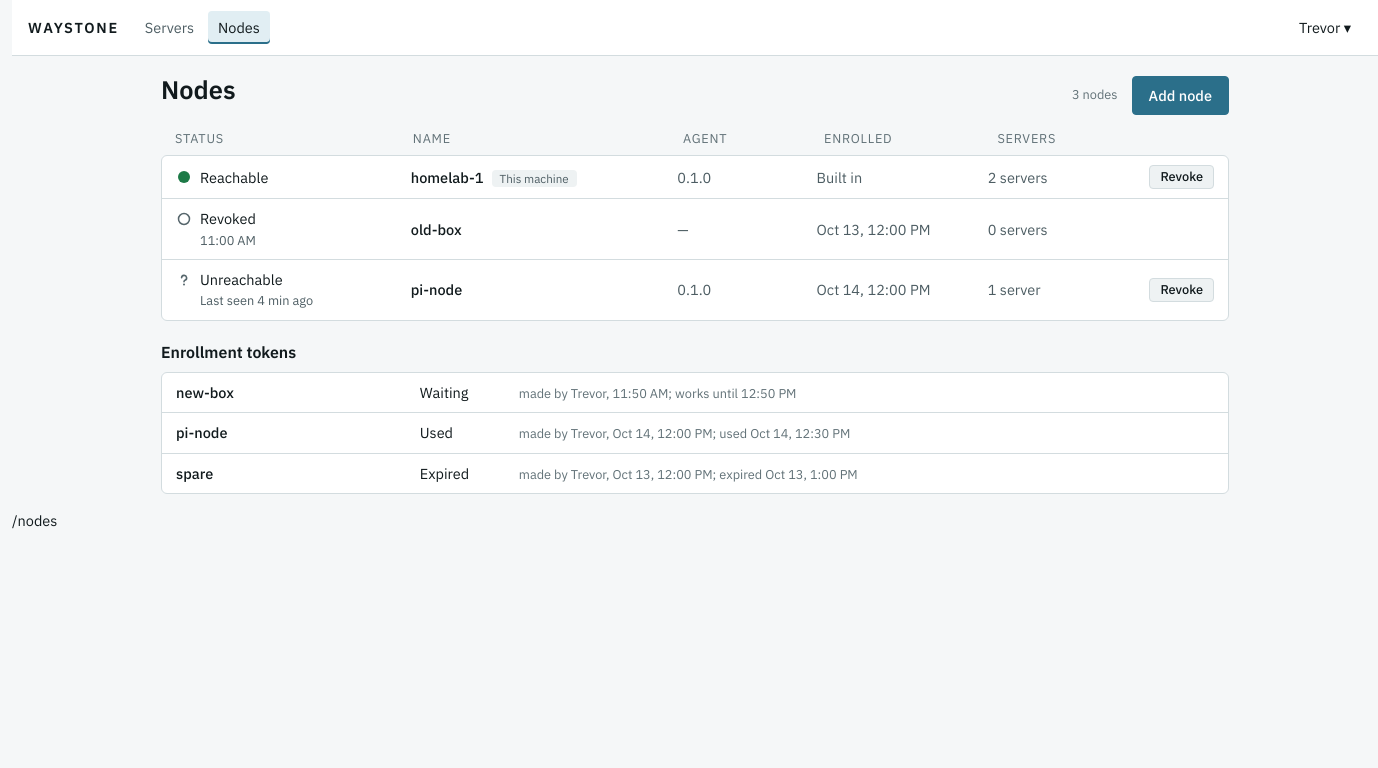
Scenario: Nodes page (D9) › a refused revoke shows why and stays open
What coordinates should you click on to do the following:
click the button "Revoke" next to "1 server"
I would click on:
 (1182, 290)
Its box is [1149,278,1214,302].
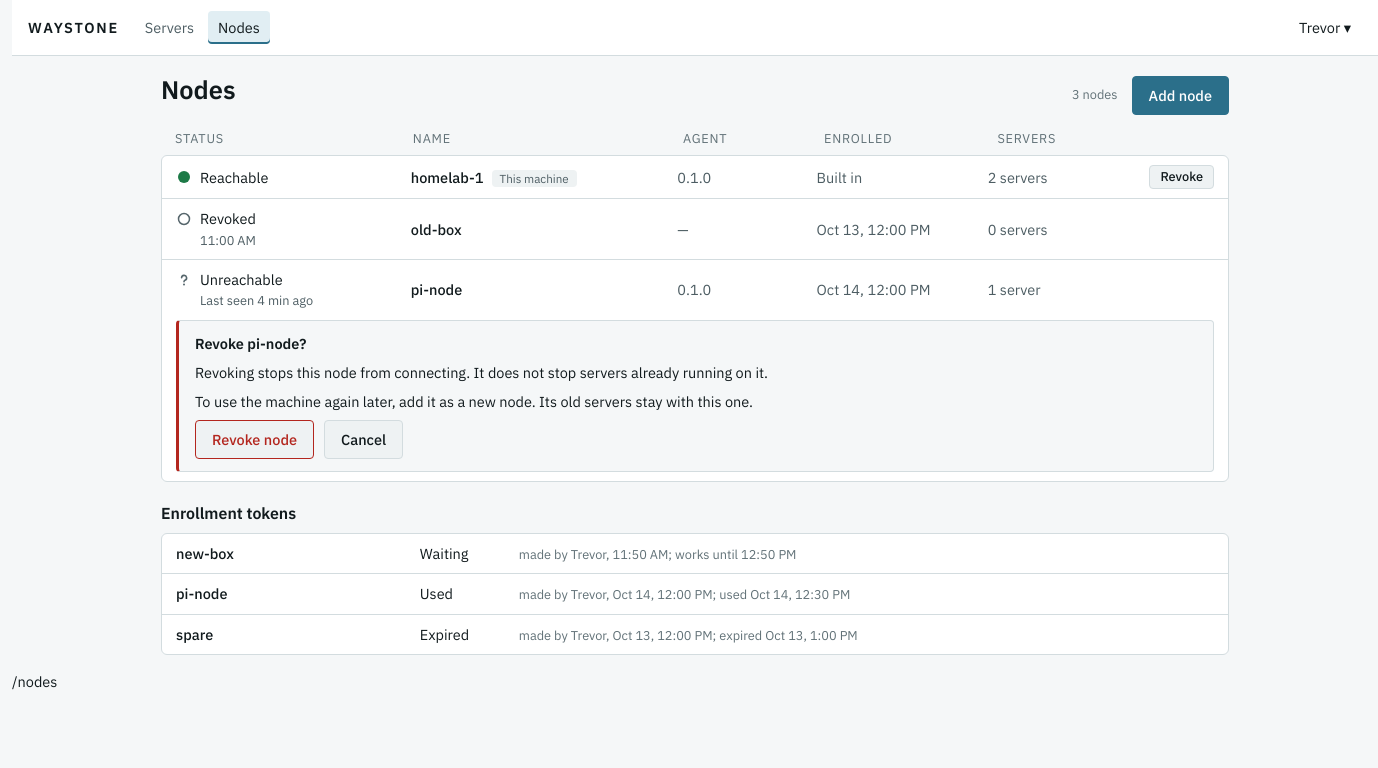
What coordinates should you click on to do the following:
click the button "Revoke node"
I would click on:
 (254, 439)
Its box is [195,420,314,459].
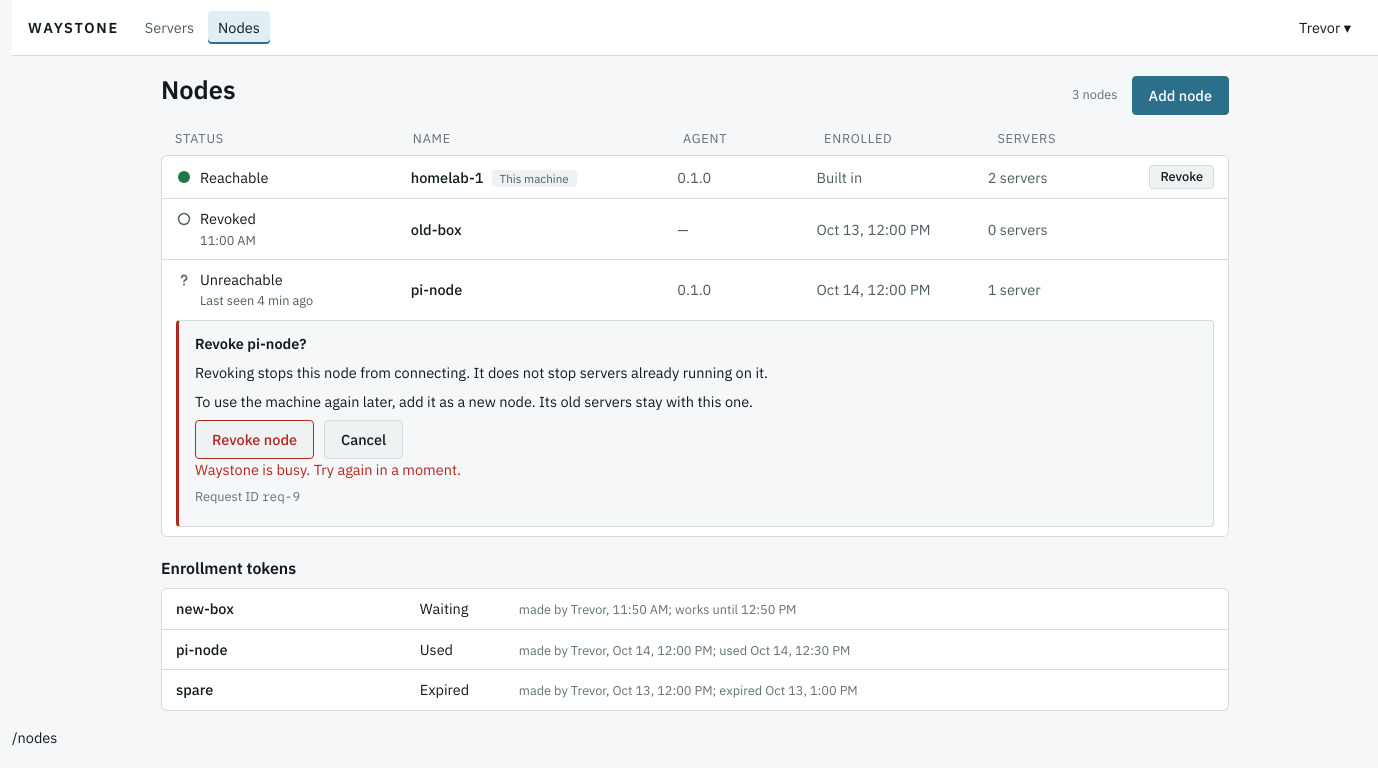
Expected: the button "Revoke node" is enabled, [195,420,314,459]
Expected: the text "Waystone is busy. Try again in a moment." is shown, [195,460,461,479]
Expected: the text "req-9" is shown, [262,488,300,505]
